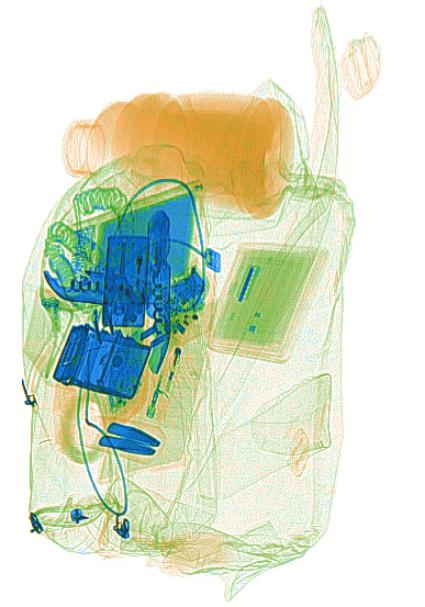knife: (41, 269, 170, 306), (144, 209, 172, 375)
lighter: (142, 312, 190, 421), (100, 233, 150, 329)
